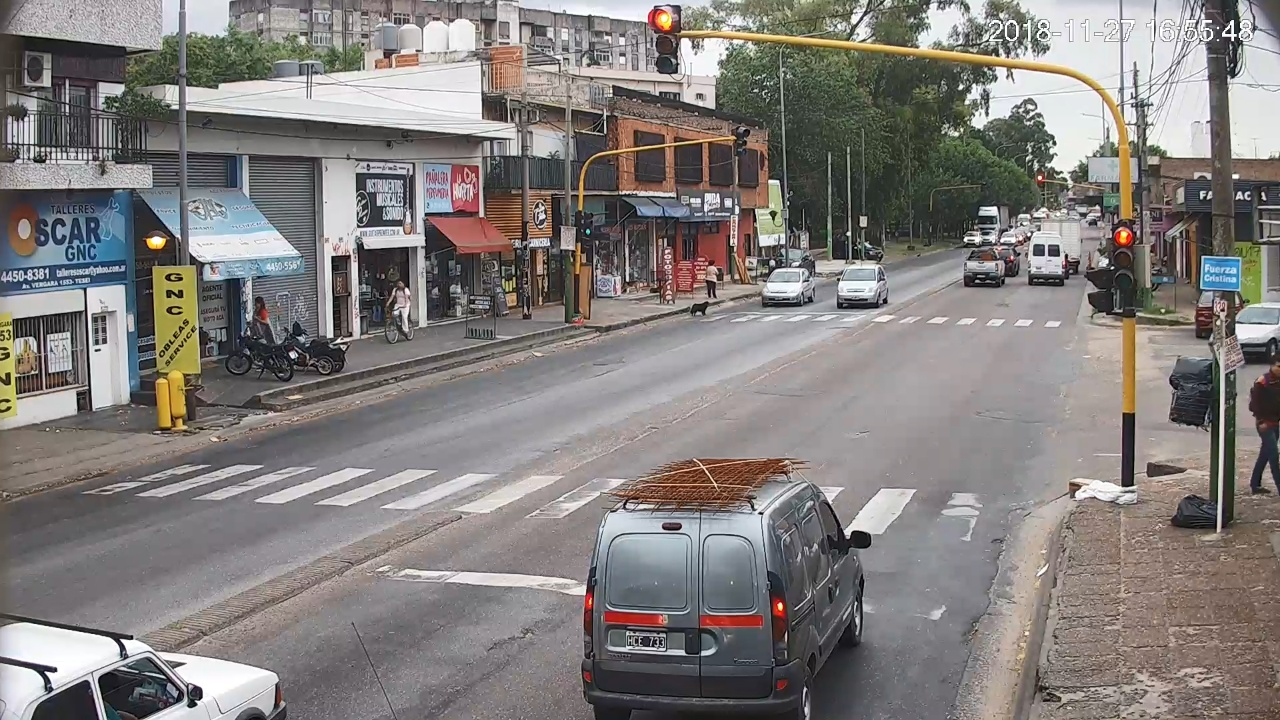car: (582, 457, 872, 720), (1, 618, 286, 720)
traffic light: (657, 6, 679, 74), (1113, 227, 1134, 289)
